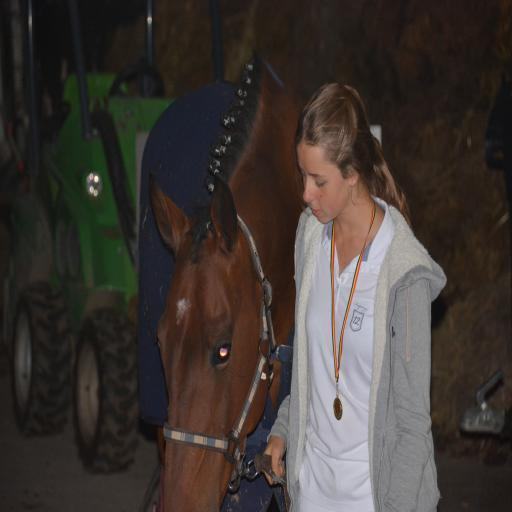horse: (148, 50, 304, 512)
